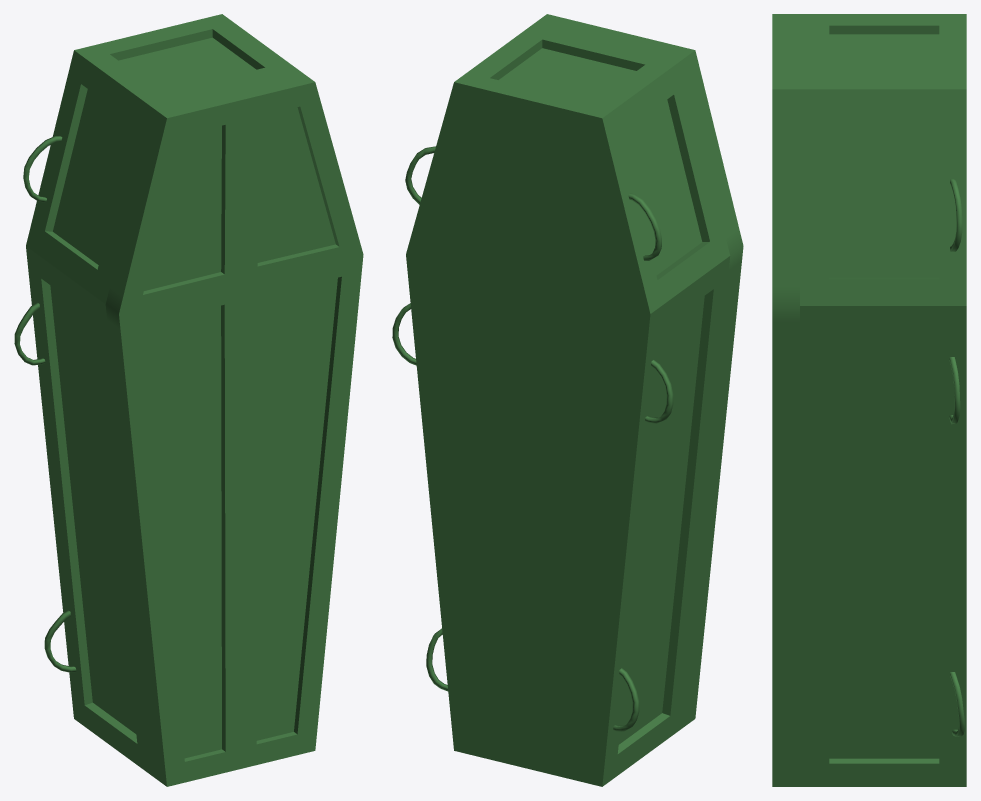
Rendered from coffin2.fbx.
The picture shows the model from 3 angles, left to right: view 1: azimuth 30°, elevation 25°; view 2: azimuth 150°, elevation 25°; view 3: azimuth 270°, elevation 25°; orthographic projection. The views are drawn at different scales.
Parts seen in each view (by area): view 1: low_rope; view 2: low_rope; view 3: low_rope.
Part boxes in pixels (x1,y1,x2,y2): low_rope: (14, 14, 363, 786); low_rope: (392, 14, 743, 786); low_rope: (772, 14, 966, 786).
Size of the model in its own units: 88.62 by 204 by 51.34.
